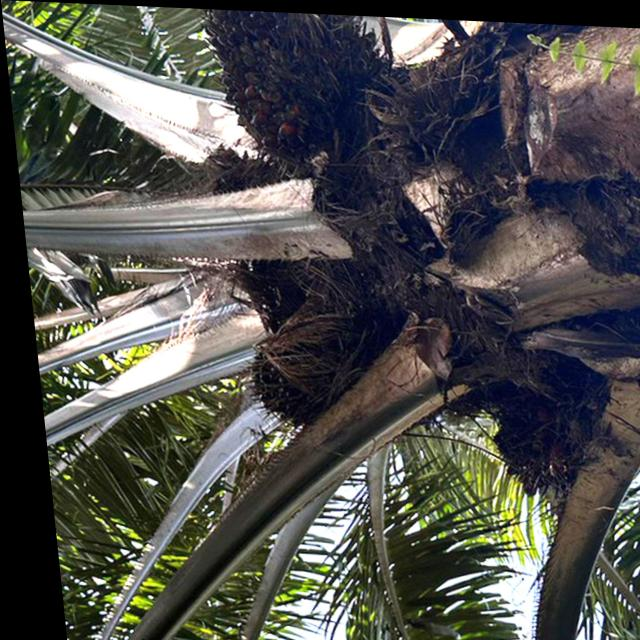unripe: (187, 7, 387, 177), (221, 279, 384, 440), (471, 356, 589, 508)
